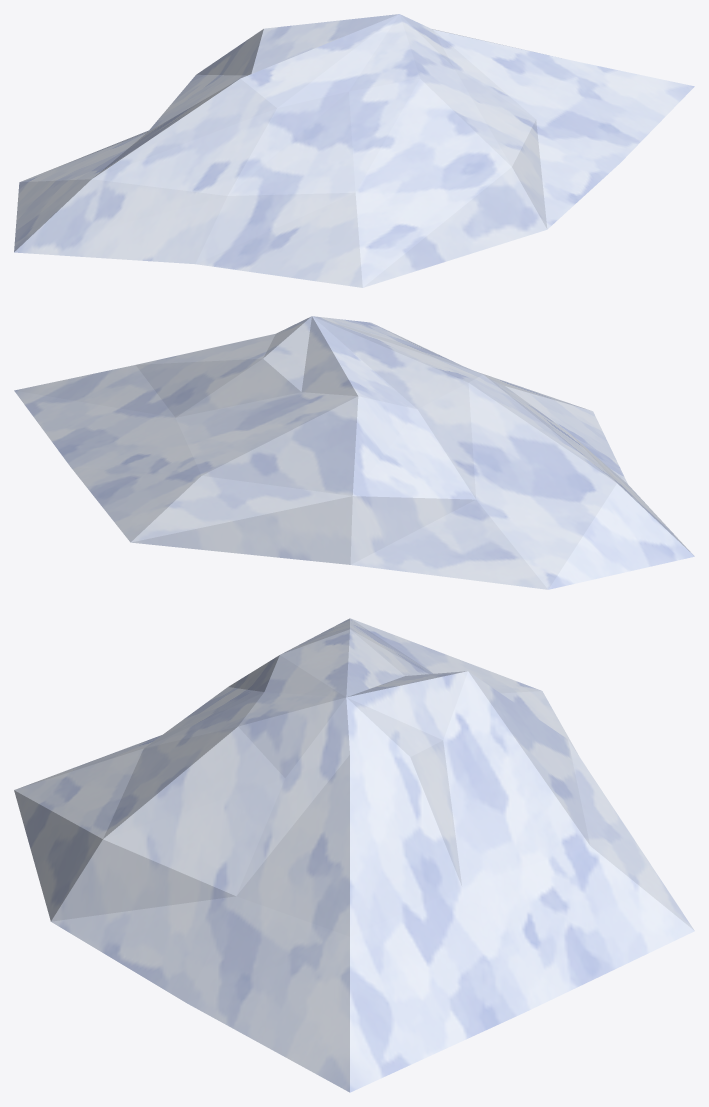
File: drift_large.glb
3 renders of one model, top to bottom at view 1: azimuth 30°, elevation 25°; view 2: azimuth 150°, elevation 25°; view 3: azimuth 270°, elevation 25°, orthographic. The views are drawn at different scales.
Parts seen in each view (by area): view 1: winter_drift_large; view 2: winter_drift_large; view 3: winter_drift_large.
Part boxes in pixels (bbox=[...]): winter_drift_large: bbox=[14, 14, 694, 287]; winter_drift_large: bbox=[14, 316, 694, 589]; winter_drift_large: bbox=[14, 618, 694, 1092].
Size of the model in its own units: 4.4 by 0.9 by 2.8.
1 material, 1 textured.
